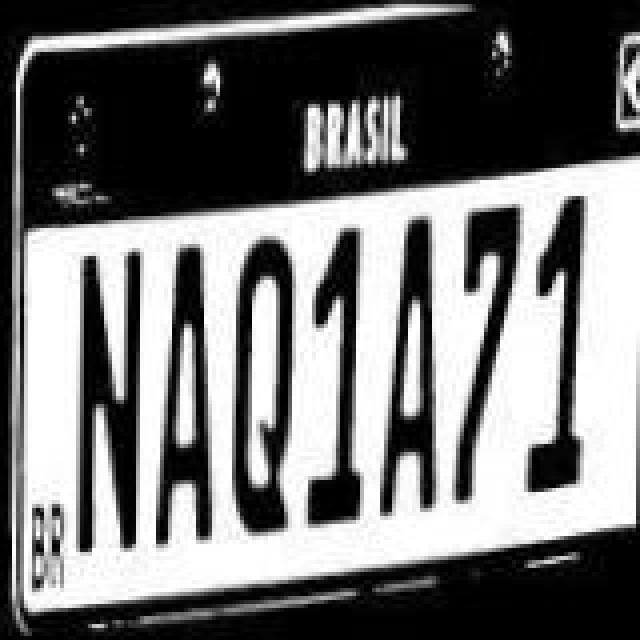1: (522, 194, 598, 494), (296, 226, 368, 530)
7: (444, 192, 524, 504)
A: (148, 240, 224, 552), (374, 210, 450, 518)
N: (70, 248, 150, 552)
Q: (224, 230, 300, 534)
